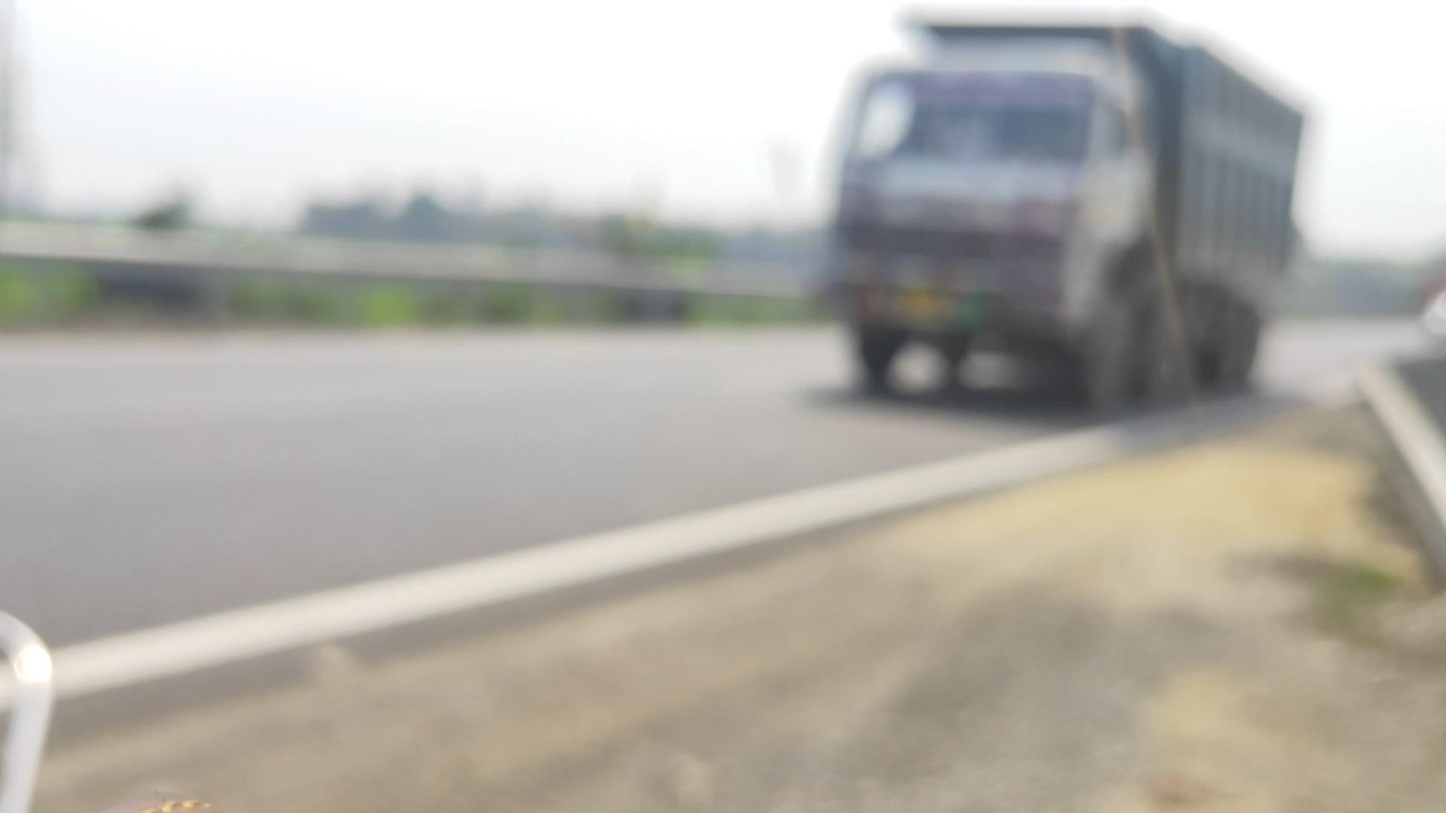truck: (834, 14, 1306, 420)
